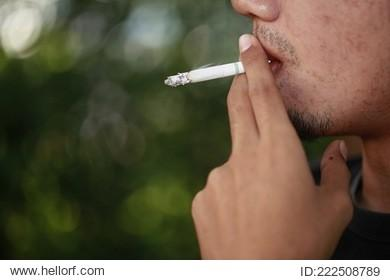Cigarette: (164, 60, 246, 90)
